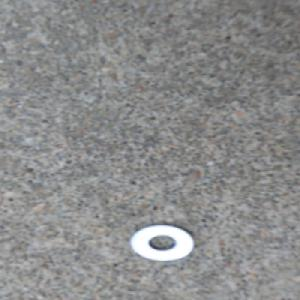Washer: (127, 223, 198, 263)
